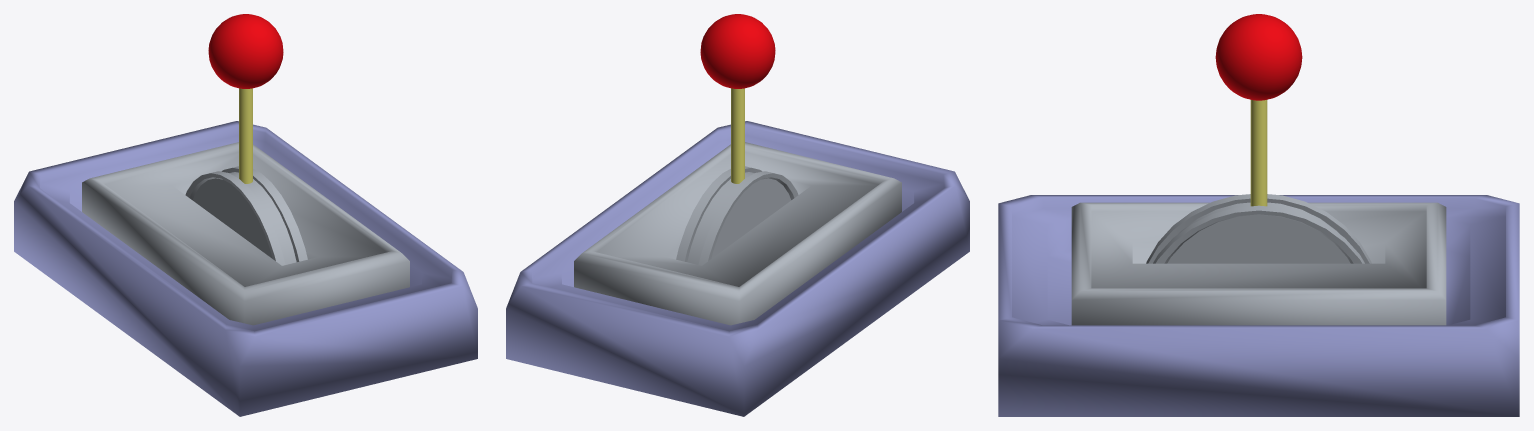
Rendered from Lever.fbx.
3 renders of one model, left to right at view 1: azimuth 30°, elevation 25°; view 2: azimuth 150°, elevation 25°; view 3: azimuth 270°, elevation 25°, orthographic. The views are drawn at different scales.
Visible parts, largest first — view 1: Base, Holder, HandleHolder, Handle; view 2: Base, Holder, HandleHolder, Handle; view 3: Base, Holder, HandleHolder, Handle.
Part boxes in pixels (<box>): Base: <box>14,121,477,416</box>; Holder: <box>82,142,409,325</box>; HandleHolder: <box>185,166,307,265</box>; Handle: <box>208,14,283,183</box>; Base: <box>506,121,969,416</box>; Holder: <box>574,142,901,325</box>; HandleHolder: <box>676,166,798,265</box>; Handle: <box>700,14,775,183</box>; Base: <box>998,195,1519,416</box>; Holder: <box>1071,202,1446,325</box>; HandleHolder: <box>1146,194,1371,263</box>; Handle: <box>1215,14,1302,206</box>.
Size of the model in its own units: 122 by 141 by 200.
